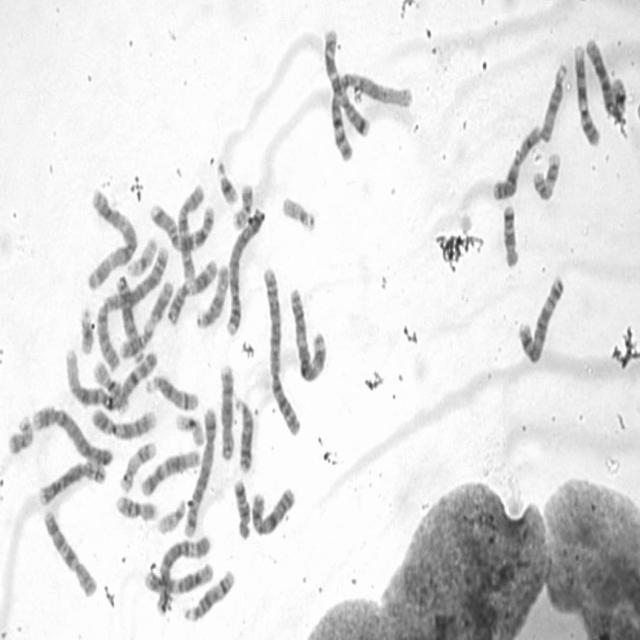A1: (326, 66, 414, 164), (61, 346, 159, 409)
A2: (94, 240, 170, 374), (261, 265, 302, 438)
A3: (85, 185, 138, 292), (288, 283, 328, 384)
B4: (224, 204, 266, 337), (30, 402, 114, 468)
B5: (181, 403, 218, 540), (516, 272, 566, 365)
C10: (41, 506, 98, 599), (174, 179, 206, 282)
C11: (116, 277, 174, 359), (165, 255, 218, 328)
C12: (139, 445, 200, 498), (142, 558, 215, 596)
C6: (153, 532, 212, 615), (585, 35, 627, 125)
C7: (321, 25, 371, 138), (148, 198, 216, 253)
C8: (36, 457, 107, 508), (218, 362, 235, 463)
C9: (572, 40, 601, 147), (90, 405, 158, 441)
D13: (113, 275, 147, 368), (233, 392, 254, 474)
D14: (181, 565, 236, 624), (143, 372, 200, 412)
D15: (193, 262, 230, 332), (538, 60, 569, 143)
E16: (91, 356, 128, 412), (114, 492, 158, 523)
E17: (118, 438, 158, 494), (531, 148, 562, 202)
E18: (500, 201, 520, 270), (232, 475, 252, 542)
F19: (125, 234, 158, 279), (173, 410, 205, 448)
F20: (6, 412, 34, 456), (231, 180, 254, 231)
G21: (215, 166, 240, 206), (78, 307, 94, 355)
G22: (280, 192, 317, 233), (155, 496, 187, 536)
X: (490, 122, 542, 202), (249, 483, 295, 538)
